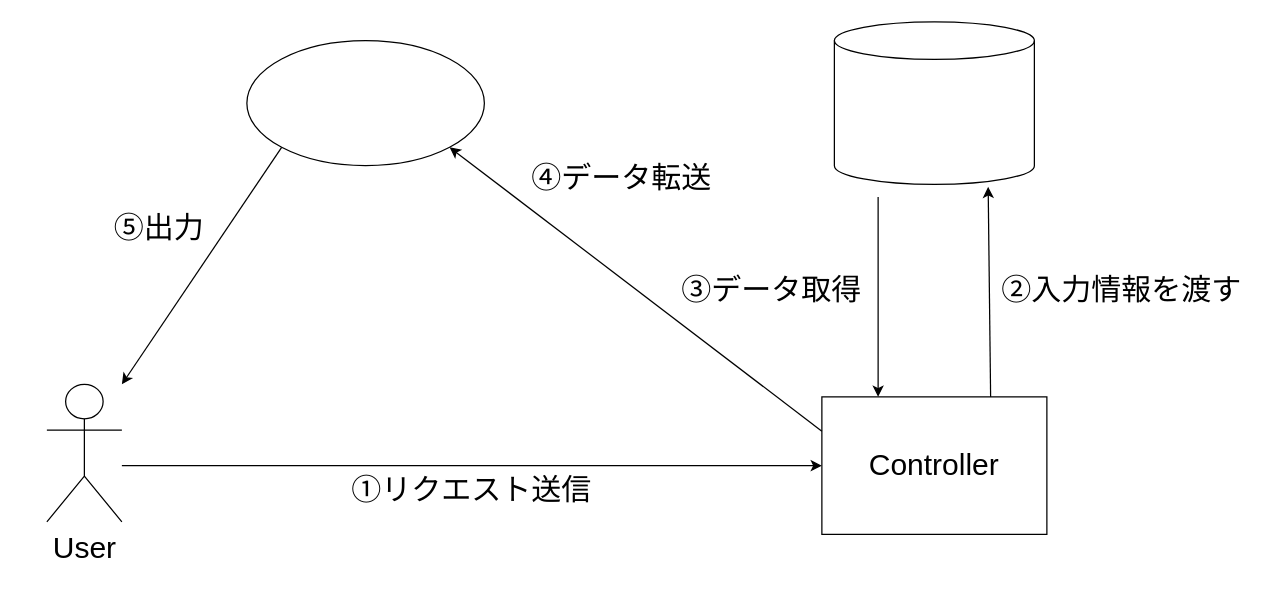
The diagram is 1280 pixels wide and 589 high, and some of its shapes have lost their labels. Here are the shapes that lost their labels. From the top down, the box of each, then its label:
(246, 39, 484, 166): View
(833, 21, 1034, 184): Model
